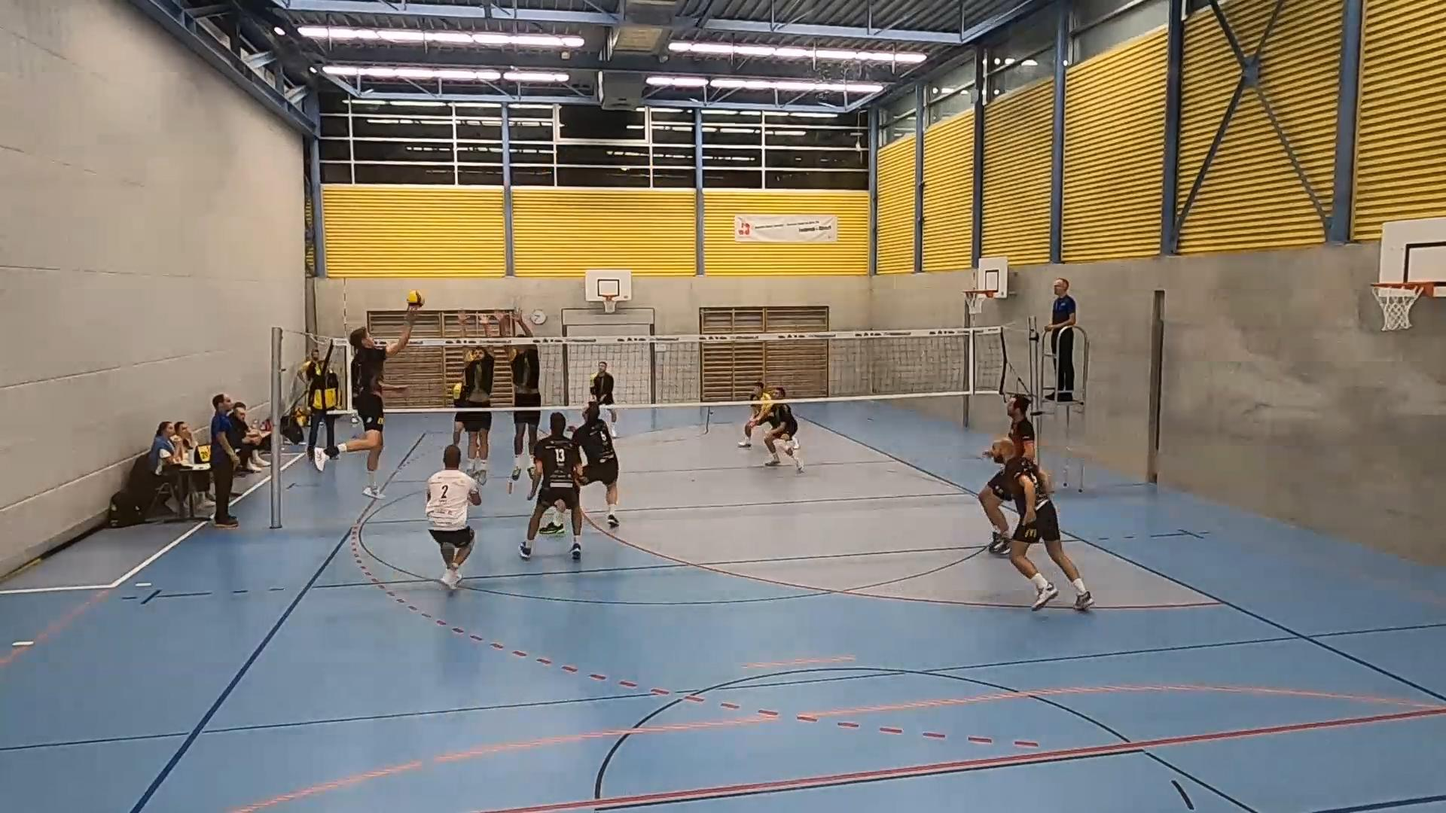Attack: (316, 311, 418, 505)
Block: (492, 304, 548, 492), (448, 305, 494, 491)
Player: (992, 439, 1093, 610), (520, 413, 582, 560), (426, 445, 480, 589), (572, 401, 618, 527), (764, 387, 803, 473), (978, 468, 1012, 554), (738, 382, 772, 448), (589, 362, 617, 437)
ball: (406, 290, 426, 308)
